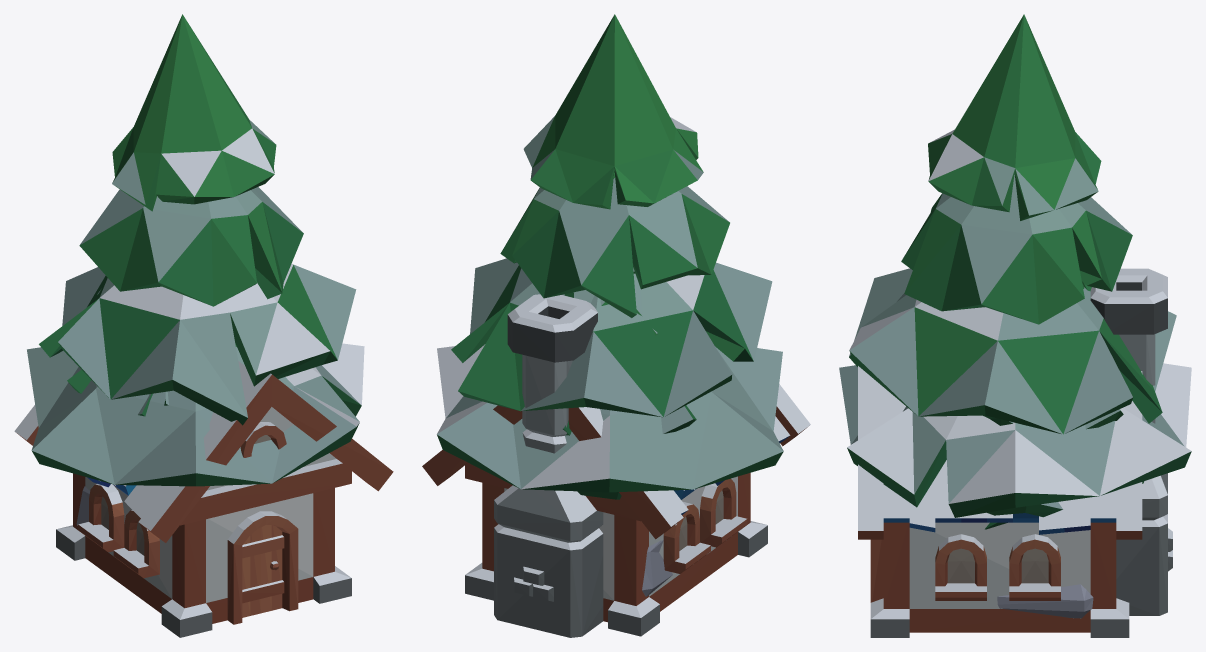
Rendered from props.glb.
3 renders of one model, left to right at view 1: azimuth 30°, elevation 25°; view 2: azimuth 150°, elevation 25°; view 3: azimuth 270°, elevation 25°, orthographic. The views are drawn at different scales.
Parts seen in each view (by area): view 1: firA, cabin, firB; view 2: firA, cabin, firB, rockB; view 3: firA, cabin, rockB, firB.
Part boxes in pixels (x1=…): firA: x1=27, y1=14, x2=364, y2=486; cabin: x1=14, y1=361, x2=393, y2=637; firB: x1=67, y1=290, x2=168, y2=416; firA: x1=437, y1=14, x2=783, y2=492; cabin: x1=422, y1=294, x2=810, y2=637; firB: x1=562, y1=169, x2=696, y2=499; rockB: x1=642, y1=540, x2=672, y2=596; firA: x1=839, y1=14, x2=1191, y2=517; cabin: x1=858, y1=268, x2=1172, y2=637; rockB: x1=997, y1=584, x2=1093, y2=618; firB: x1=983, y1=281, x2=1143, y2=517.
Size of the model in its own units: 5.41 by 8.5 by 4.72.
